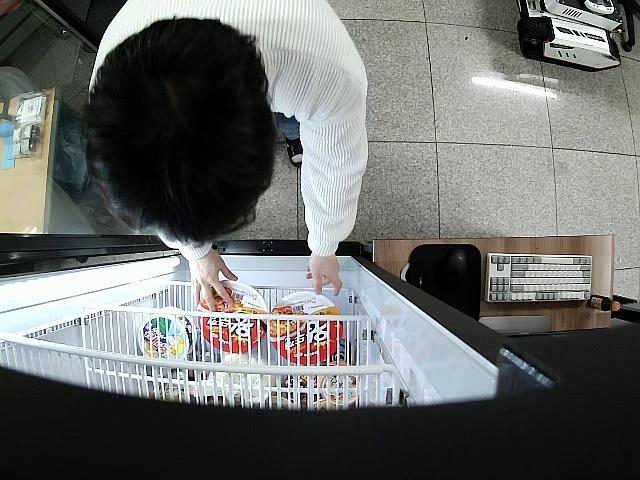00_hand: (189, 250, 238, 311), (304, 253, 343, 299)
10_wangTtukkeong: (267, 291, 341, 365), (198, 281, 266, 352)
